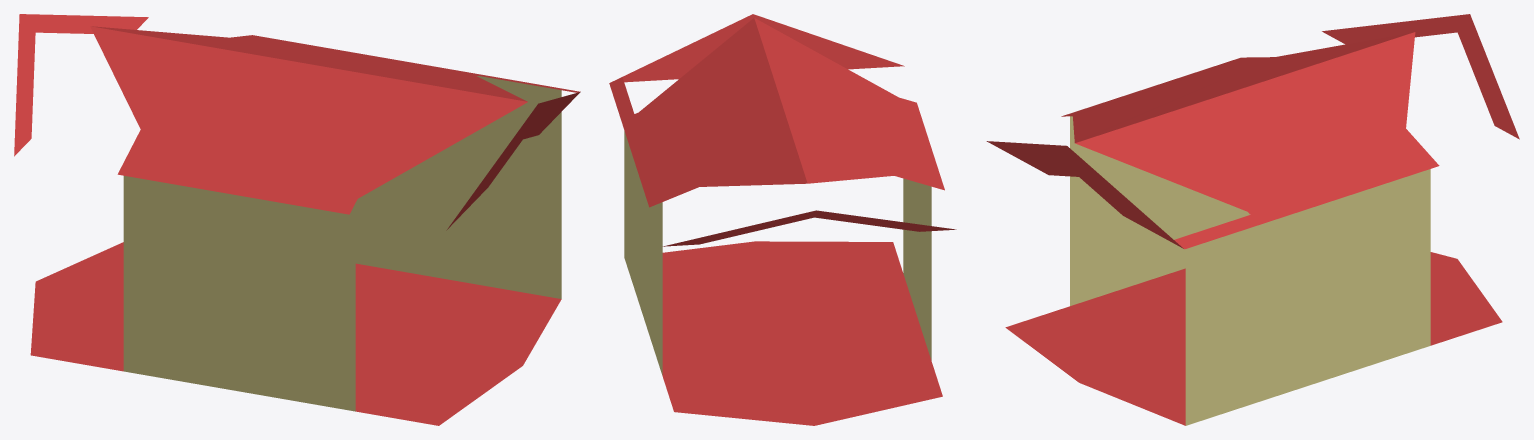
3 renders of one model, left to right at view 1: azimuth 30°, elevation 25°; view 2: azimuth 150°, elevation 25°; view 3: azimuth 270°, elevation 25°, orthographic. The views are drawn at different scales.
Size of the model in its own units: 17.45 by 18.05 by 8.98.
